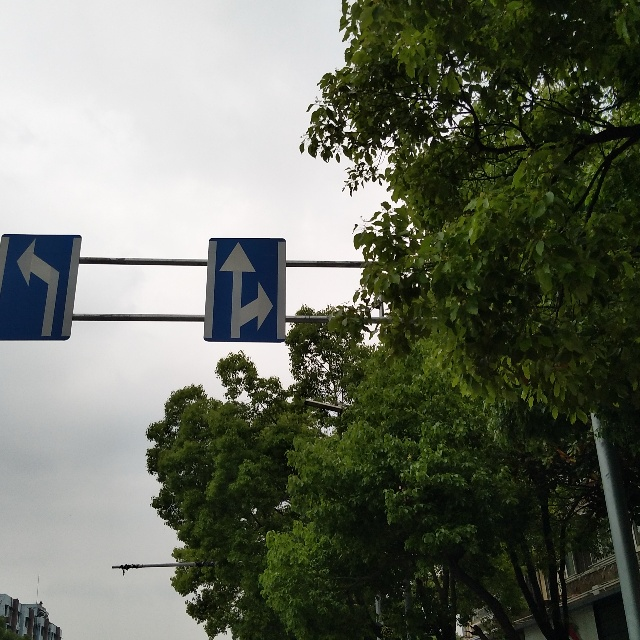left: (7, 241, 65, 336)
